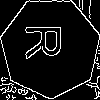R: (25, 22, 70, 59)
